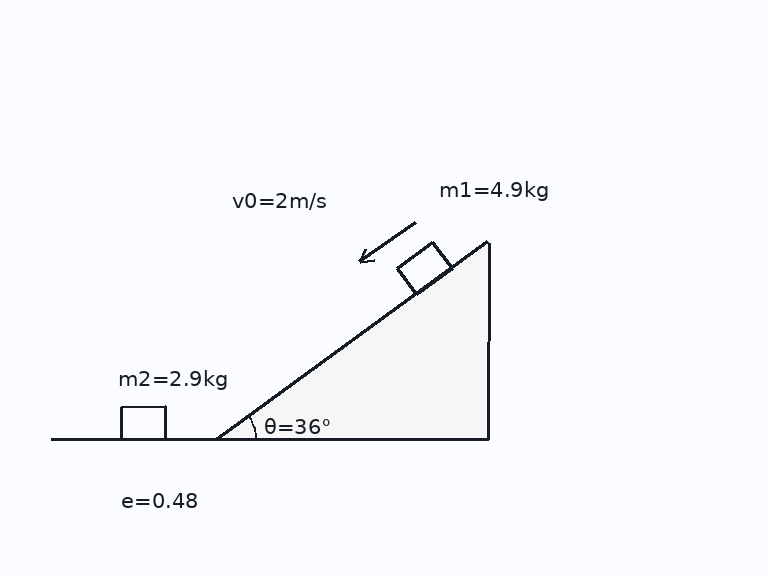block: (395, 240, 453, 296), (119, 405, 167, 441)
ramp: (214, 240, 490, 441)
